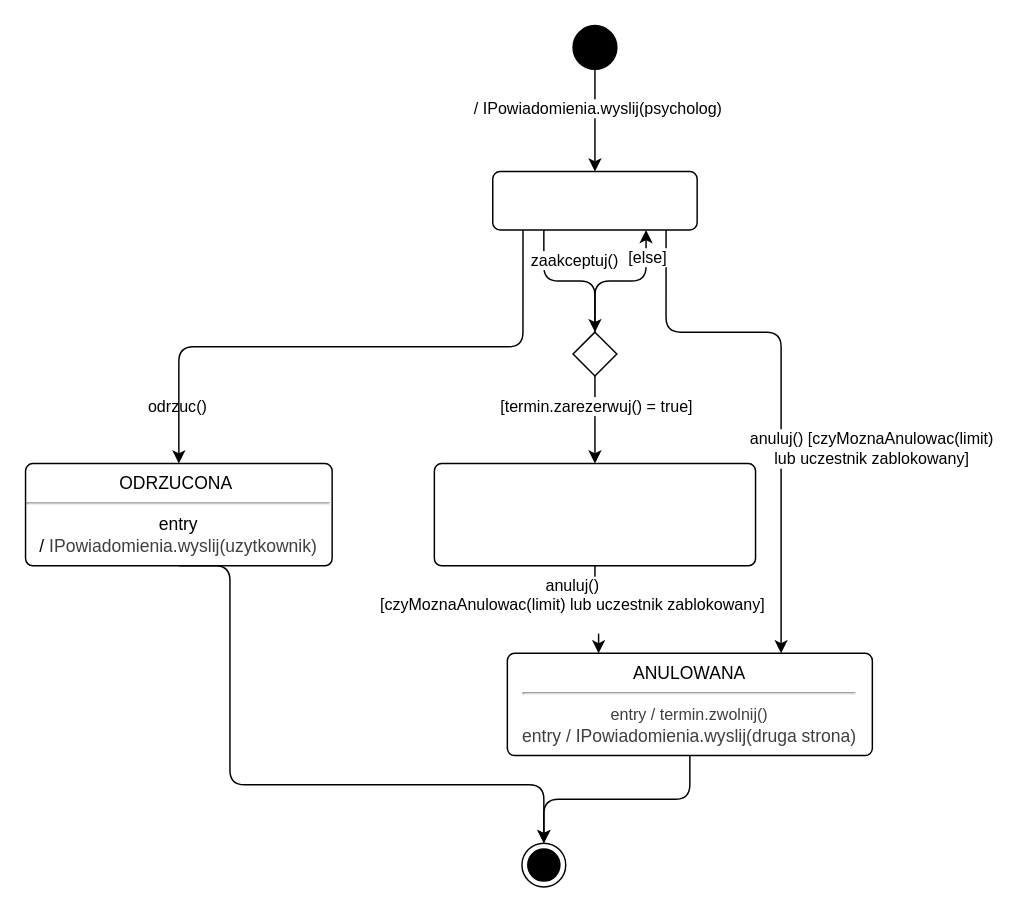
Image size: 1022x913. Some labels were removed from this diagram. The shapes that lost their labels are listed below. From the top down, each one's centre as x and y in pixels, then its label:
point (594, 200): OCZEKUJACA
point (594, 514): ZAAKCEPTOWANA entry / IPowiadomienia.wyslij(uzytkownik)
